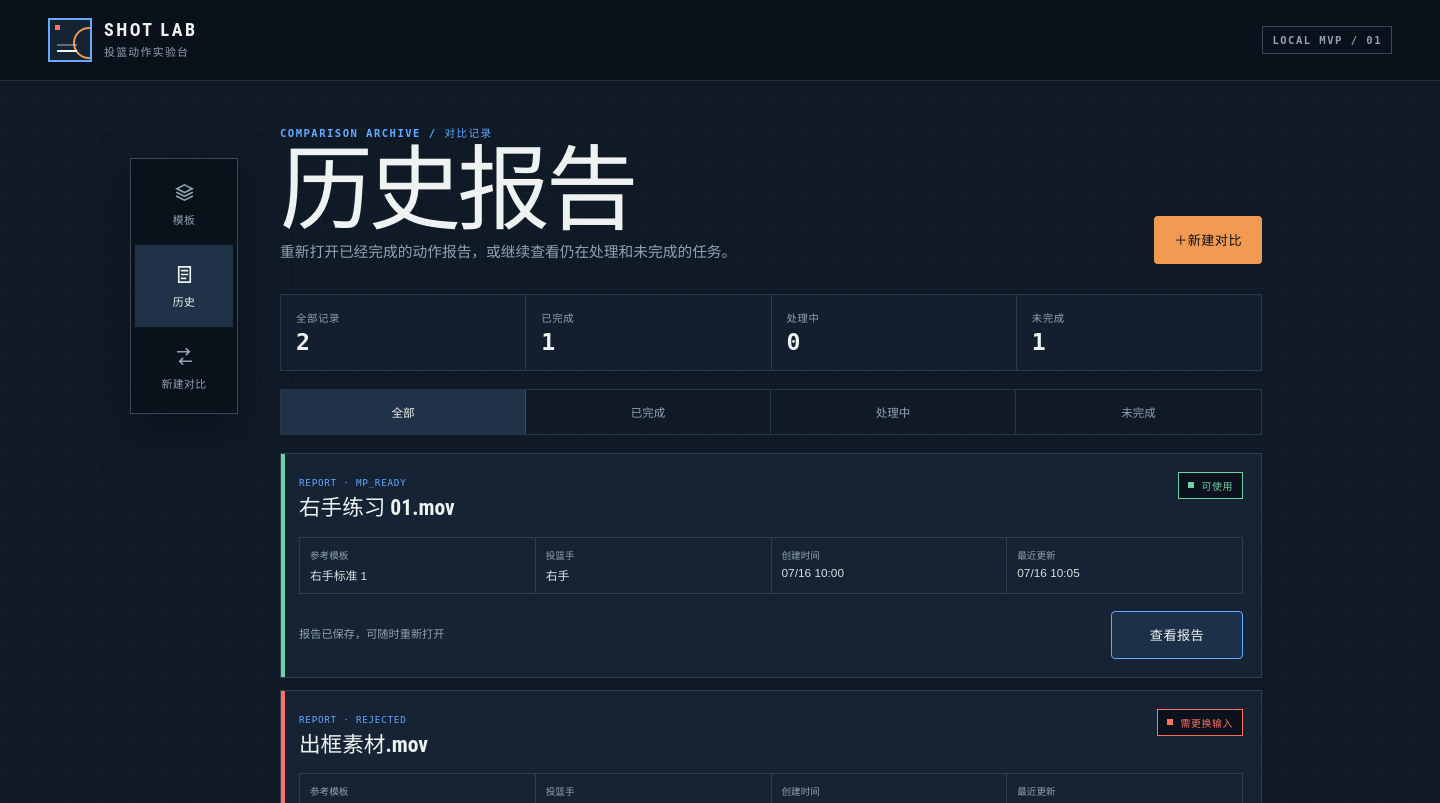
Test case: comparison history › reopens saved reports and keeps unfinished tasks queryable
Expected: the heading "右手练习 01.mov" is shown, [299,496,455,520]
Expected: the heading "出框素材.mov" is shown, [299,732,428,756]
Step 1. Click the button "已完成" → coordinates (648, 412), box [526,390,771,434]
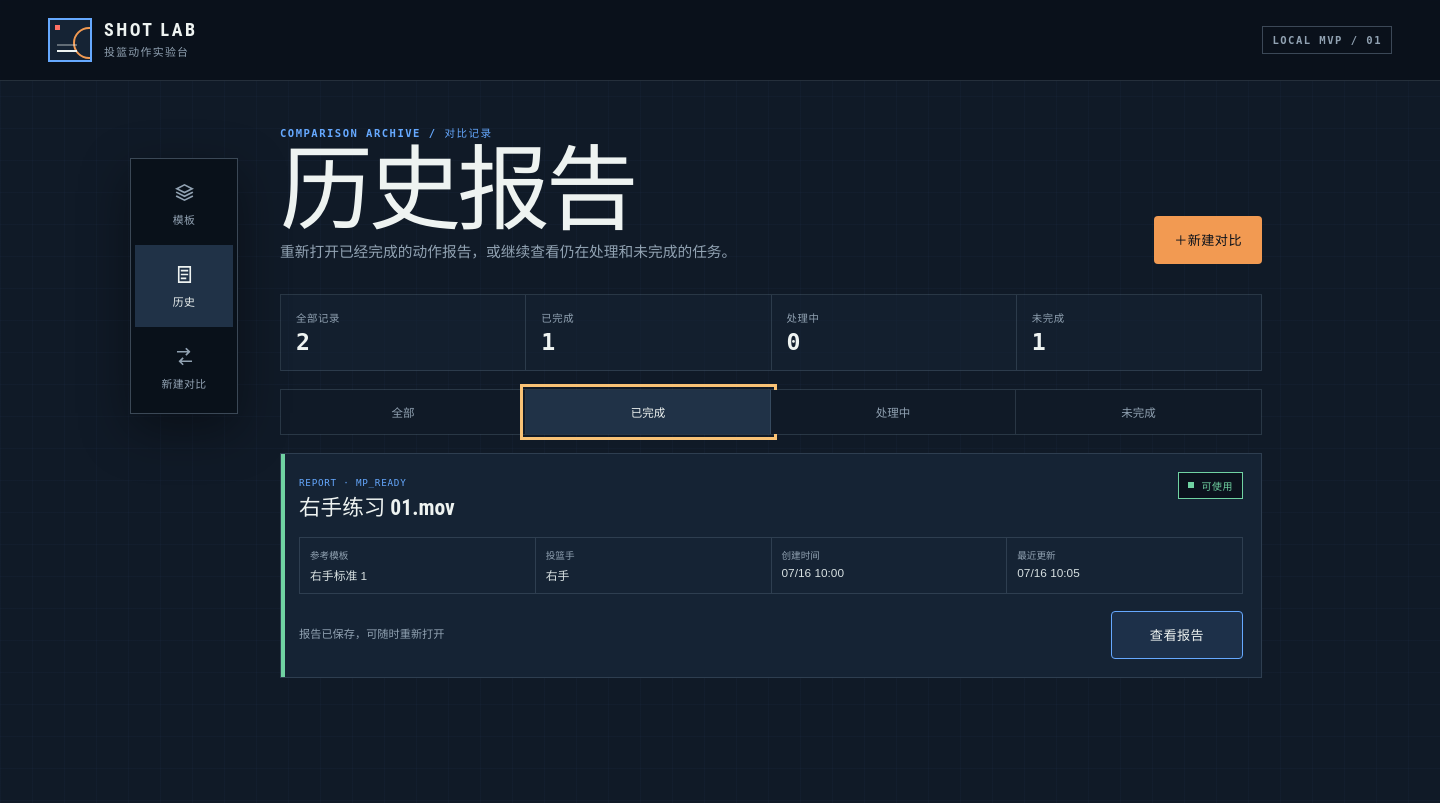
Expected: the heading "右手练习 01.mov" is shown, [299,496,455,520]
Expected: the heading "出框素材.mov" is gone
